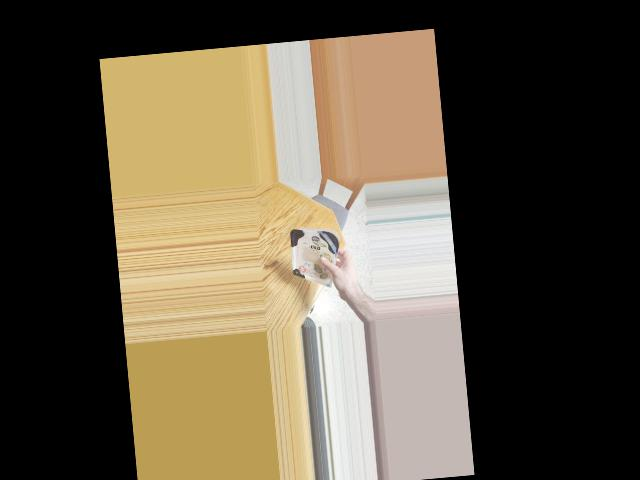cheese: (293, 224, 335, 285)
